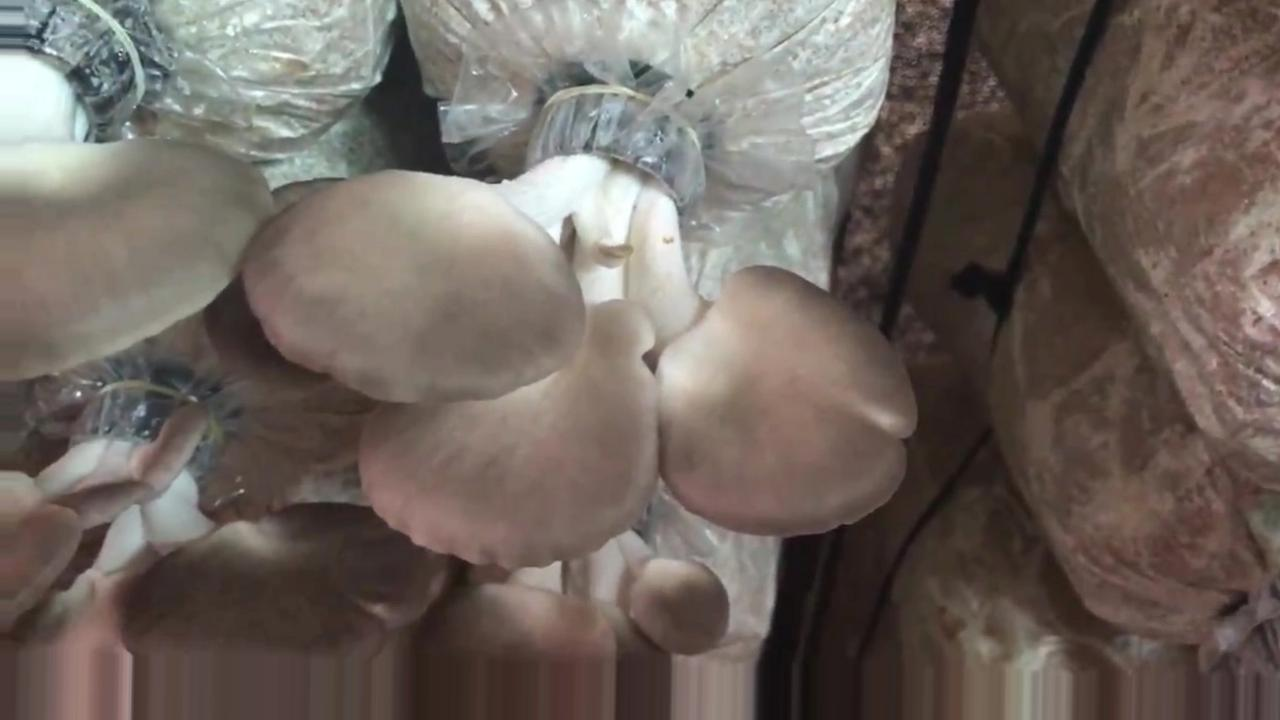nam: (243, 87, 918, 568), (1, 371, 448, 715), (1, 1, 271, 381), (375, 531, 732, 720)
